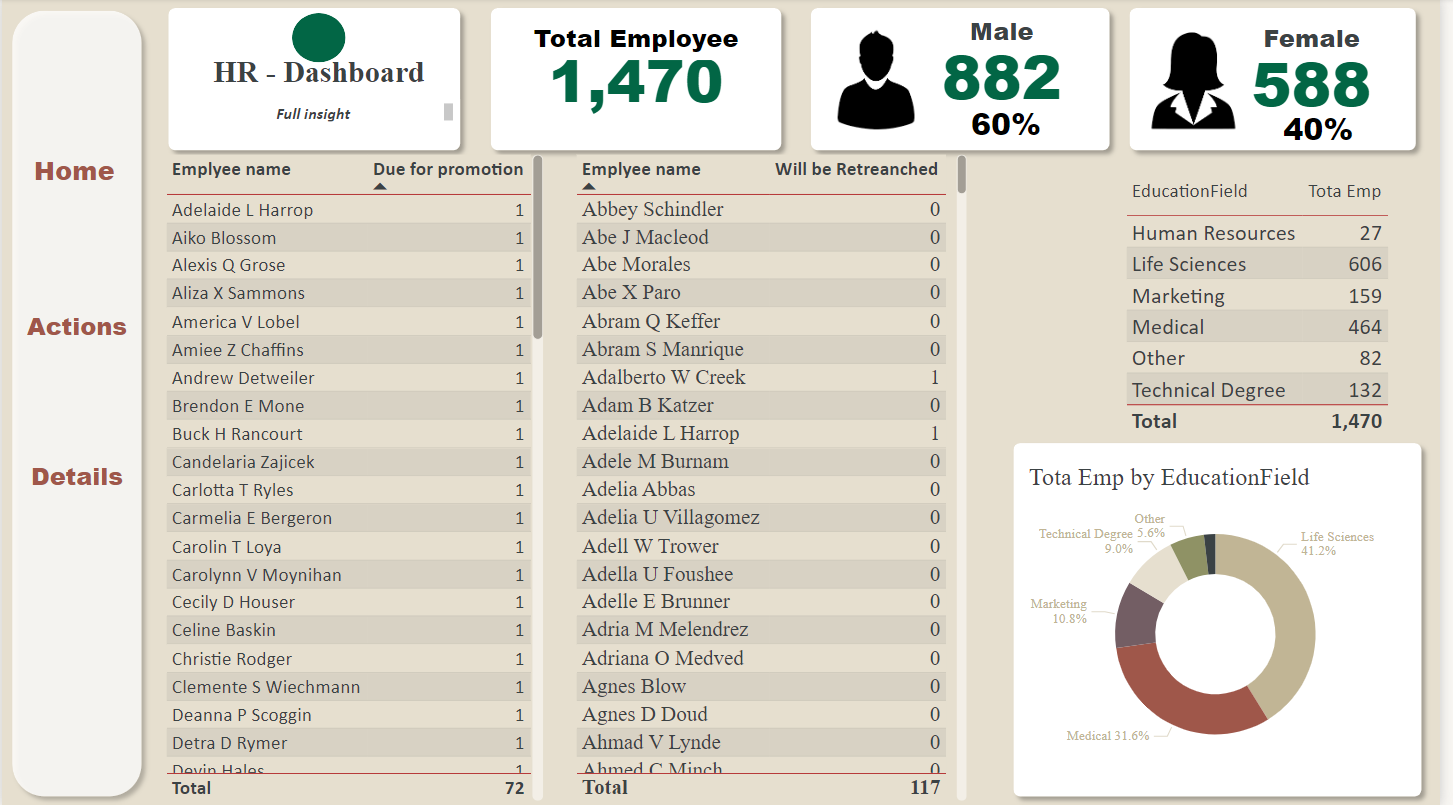

This screenshot's page, from the dashboard's own definition file:
{"tool":"powerbi","page":{"name":"Actions","canvas":[1280,720],"ordinal":1},"visuals":[{"type":"shape","box":[139.5,0,277.8,144.4],"z":0},{"type":"shape","box":[425.9,0,276.5,144.4],"z":1000},{"type":"shape","box":[711.1,0,284,144.4],"z":2000},{"type":"shape","box":[995.1,0,272.8,144.4],"z":3000},{"type":"textbox","box":[156.5,45.2,250.6,44],"z":4000},{"type":"textbox","box":[216.4,89.2,190.7,25.7],"z":5000},{"type":"shape","box":[257.9,13.4,47.7,44],"z":6000},{"type":"card","title":"Total Employee","fields":{"Values":["All measure's.Tota Emp"]},"box":[458,19.8,212.3,88.9],"z":7000},{"type":"card","title":"Male","fields":{"Values":["All measure's.Male"]},"box":[795.1,13.6,191.4,95.1],"z":8000},{"type":"card","title":"Female","fields":{"Values":["All measure's.Female"]},"box":[1084,19.8,164.2,93.8],"z":9000},{"type":"card","fields":{"Values":["All measure's.% male"]},"box":[817.3,92.6,154.3,40.7],"z":10000},{"type":"card","fields":{"Values":["All measure's.% Female"]},"box":[1102.5,98.8,138.3,35.8],"z":11000},{"type":"image","box":[728.4,23.5,98.8,98.8],"z":12000},{"type":"image","box":[1009.9,22.2,102.5,102.5],"z":13000},{"type":"shape","box":[0,2.4,133.2,717.6],"z":14000},{"type":"tableEx","fields":{"Values":["HR employee data.Emplyee name","All measure's.Due for promotion"]},"box":[140,135,346.2,585],"z":15000},{"type":"tableEx","fields":{"Values":["HR employee data.Emplyee name","All measure's.Will be Retreanched"]},"box":[505,135,358.8,585],"z":16000},{"type":"actionButton","box":[15,133.8,100,40],"z":17000},{"type":"actionButton","box":[16.2,271.2,100,40],"z":18000},{"type":"actionButton","box":[16.2,405,100,40],"z":19000},{"type":"tableEx","fields":{"Values":["HR Analytics Data.EducationField","All measure's.Tota Emp"]},"box":[995,153.8,256.2,260],"z":20000},{"type":"shape","box":[891.2,387.5,381.2,332.5],"z":21000},{"type":"donutChart","fields":{"Y":["All measure's.Tota Emp"],"Category":["HR Analytics Data.EducationField"]},"box":[908.8,413.8,342.5,281.2],"z":22000}]}

Visuals, with their boxes in screenshot pixels (x1, y1, x2, y2), scaled from the page's 1280x720 canvas onto the 1453x805 screenshot:
shape: x1=158, y1=0, x2=474, y2=161
shape: x1=483, y1=0, x2=797, y2=161
shape: x1=807, y1=0, x2=1130, y2=161
shape: x1=1130, y1=0, x2=1439, y2=161
textbox: x1=178, y1=51, x2=462, y2=100
textbox: x1=246, y1=100, x2=462, y2=128
shape: x1=293, y1=15, x2=347, y2=64
"Total Employee" card: x1=520, y1=22, x2=761, y2=122
"Male" card: x1=903, y1=15, x2=1120, y2=122
"Female" card: x1=1231, y1=22, x2=1417, y2=127
card - All measure's.% male: x1=928, y1=104, x2=1103, y2=149
card - All measure's.% Female: x1=1252, y1=110, x2=1409, y2=150
image: x1=827, y1=26, x2=939, y2=137
image: x1=1146, y1=25, x2=1263, y2=139
shape: x1=0, y1=3, x2=151, y2=804
tableEx - HR employee data.Emplyee name x All measure's.Due for promotion: x1=159, y1=151, x2=552, y2=804
tableEx - HR employee data.Emplyee name x All measure's.Will be Retreanched: x1=573, y1=151, x2=981, y2=804
actionButton: x1=17, y1=150, x2=131, y2=194
actionButton: x1=18, y1=303, x2=132, y2=348
actionButton: x1=18, y1=453, x2=132, y2=498
tableEx - HR Analytics Data.EducationField x All measure's.Tota Emp: x1=1129, y1=172, x2=1420, y2=463
shape: x1=1012, y1=433, x2=1444, y2=804
donutChart - All measure's.Tota Emp x HR Analytics Data.EducationField: x1=1032, y1=463, x2=1420, y2=777
